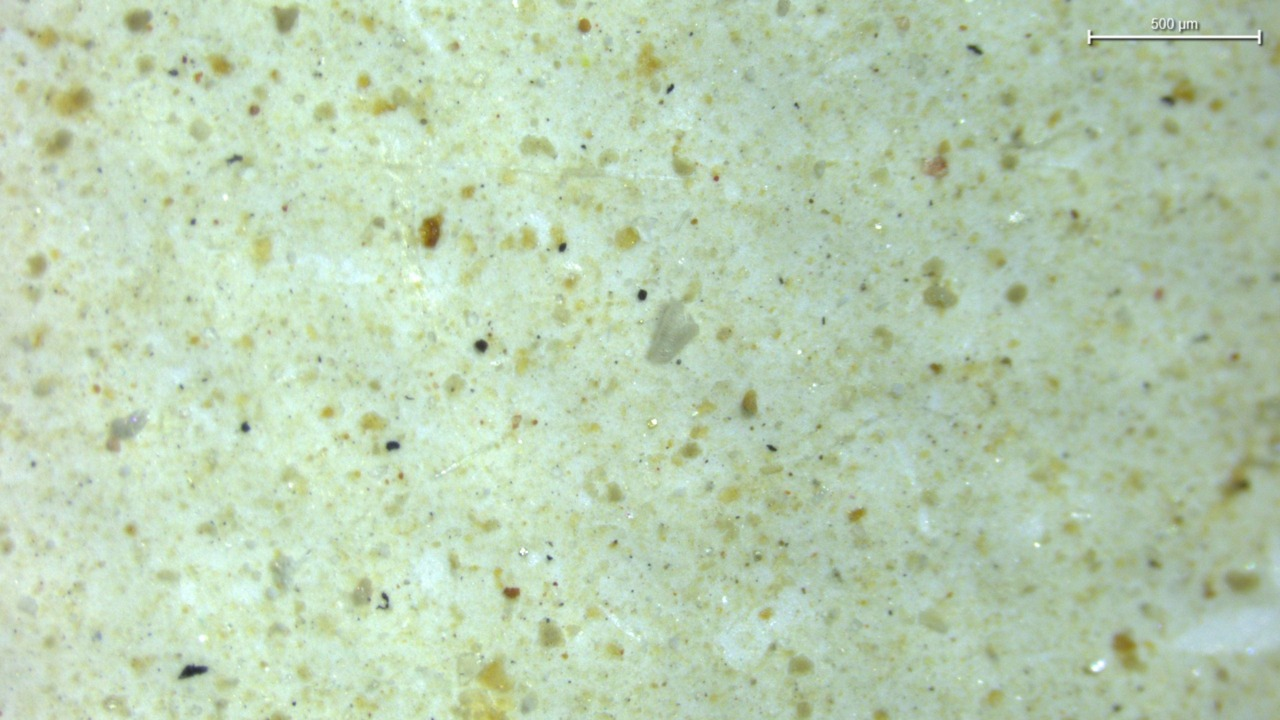microplastic_fragment: (647, 300, 698, 364)
